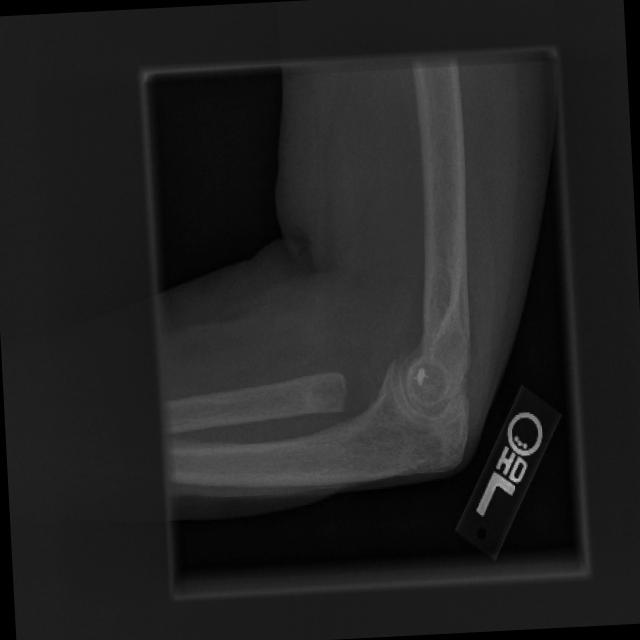elbow positive: (297, 346, 429, 447)
